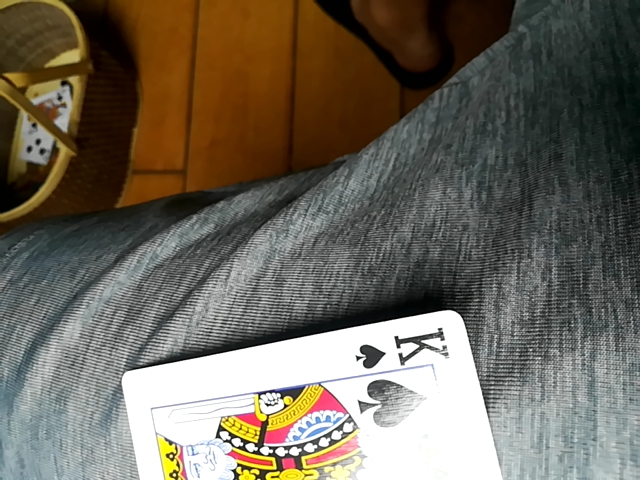ht k: (122, 309, 514, 480)
